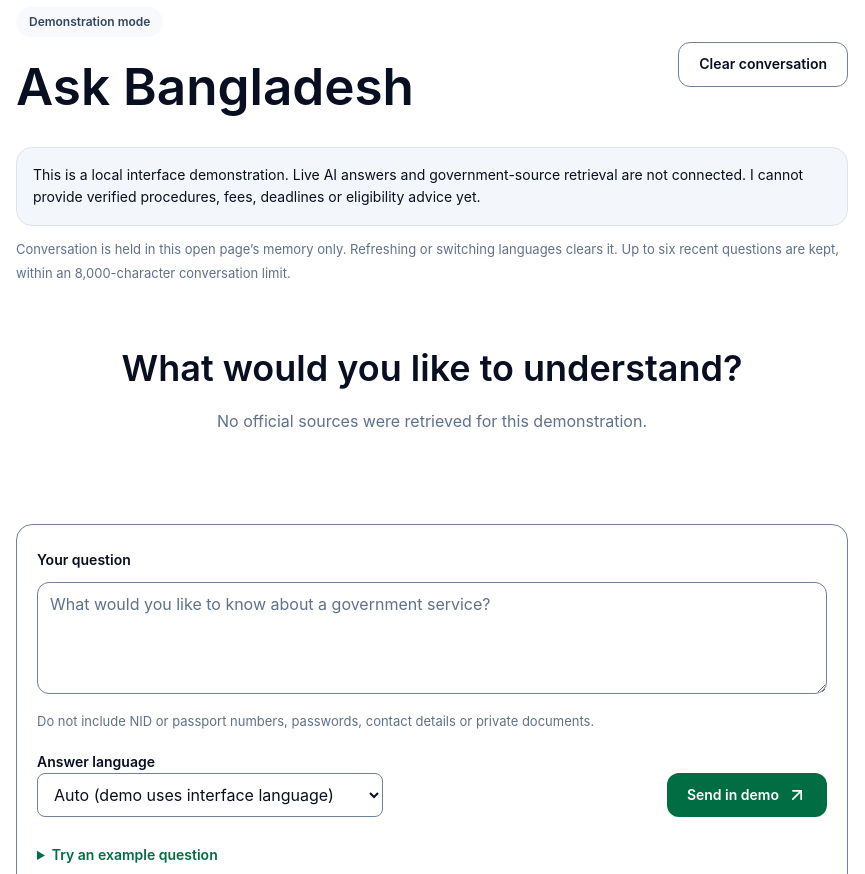
Test: demonstration conversations › announces failure without leaking the error and retries the same question
Type "retry question" into the text box labelled "Your question" at (432, 638), box x1=37 y1=582 x2=827 y2=694
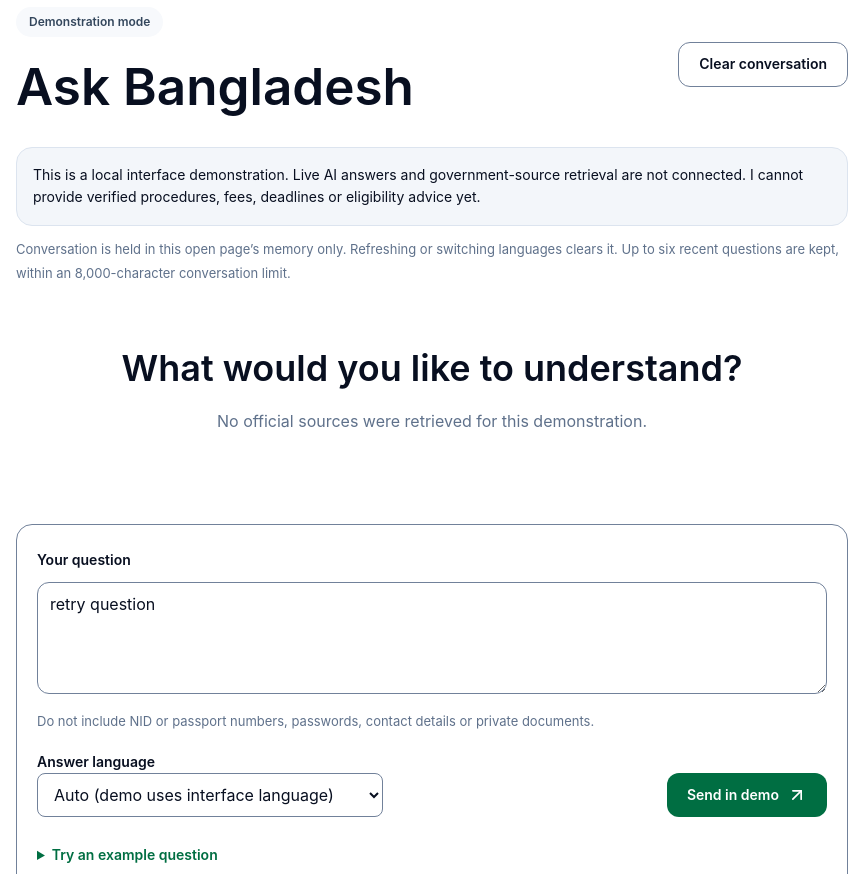
Click the button "Send in demo" at (747, 795), box x1=667 y1=773 x2=827 y2=817
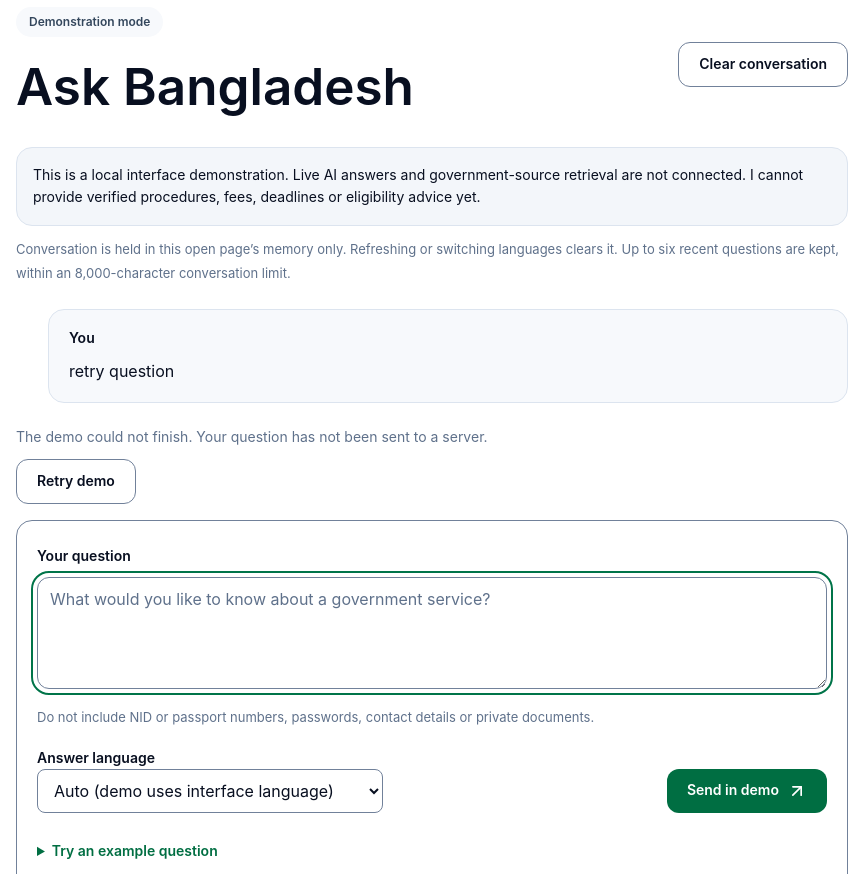
Click the button "Retry demo" at (76, 481), box x1=16 y1=459 x2=136 y2=504
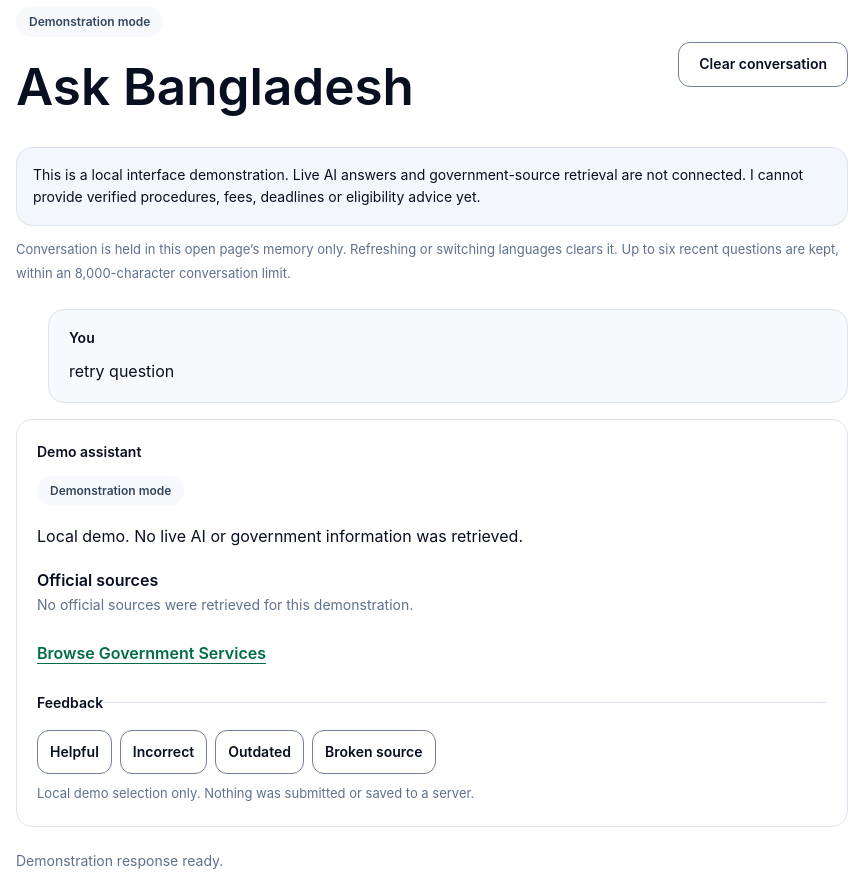
Result: the text "retry question" is shown once at x1=69 y1=361 x2=174 y2=381
Result: the text "Local demo. No live AI or government information was retrieved." is shown at x1=37 y1=526 x2=523 y2=546
